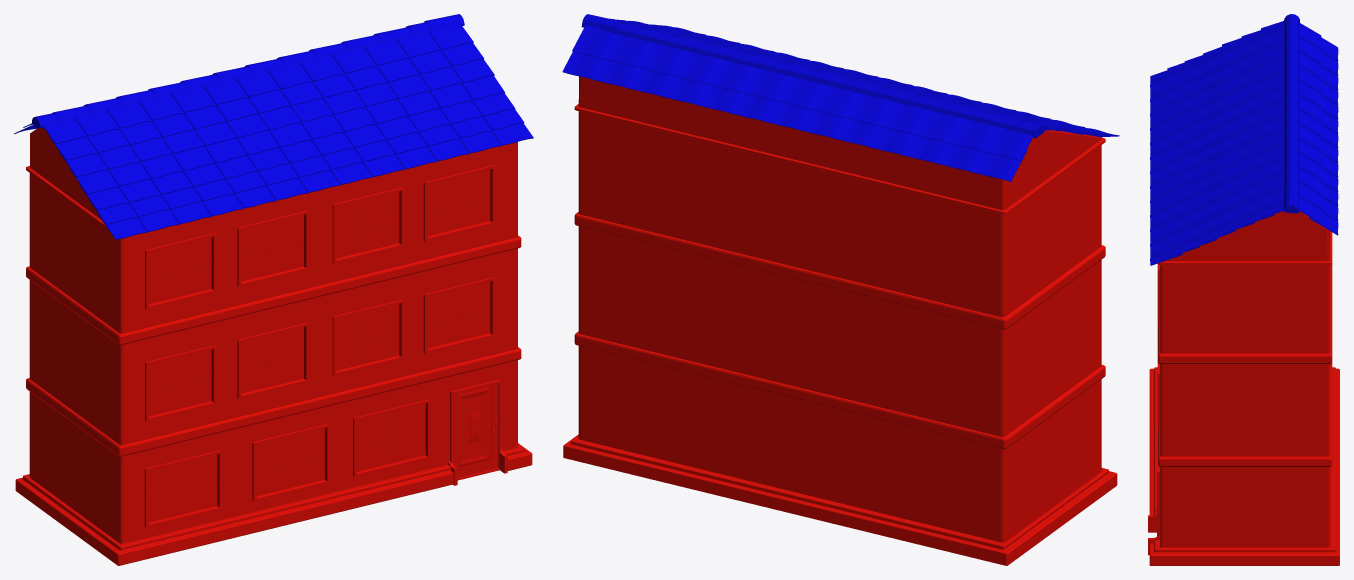
File: FlatGebouw.fbx
3 views of the same model, side by side, from view 1: azimuth 30°, elevation 25°; view 2: azimuth 150°, elevation 25°; view 3: azimuth 270°, elevation 25° (orthographic). The views are drawn at different scales.
Parts seen in each view (by area): view 1: Flatgebouw; view 2: Flatgebouw; view 3: Flatgebouw.
Part boxes in pixels (<box>): Flatgebouw: <box>14,14,533,565</box>; Flatgebouw: <box>562,14,1119,565</box>; Flatgebouw: <box>1148,14,1339,565</box>.
Size of the model in its own units: 11.52 by 10.25 by 4.88.
